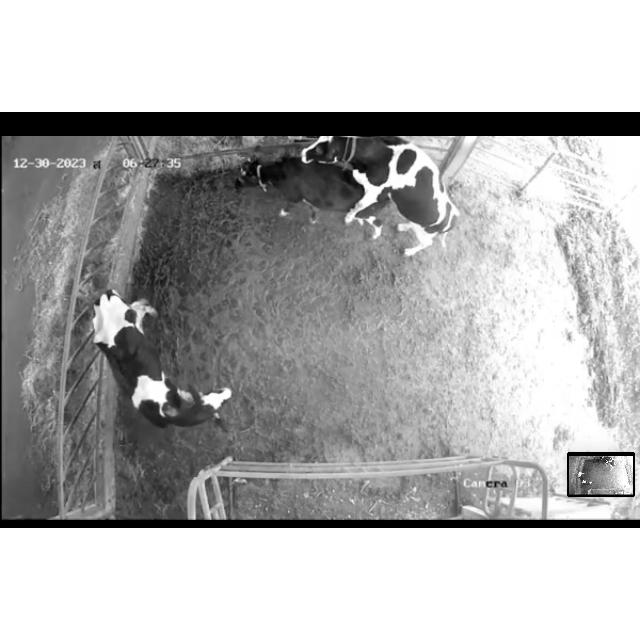ride: (295, 135, 463, 257)
